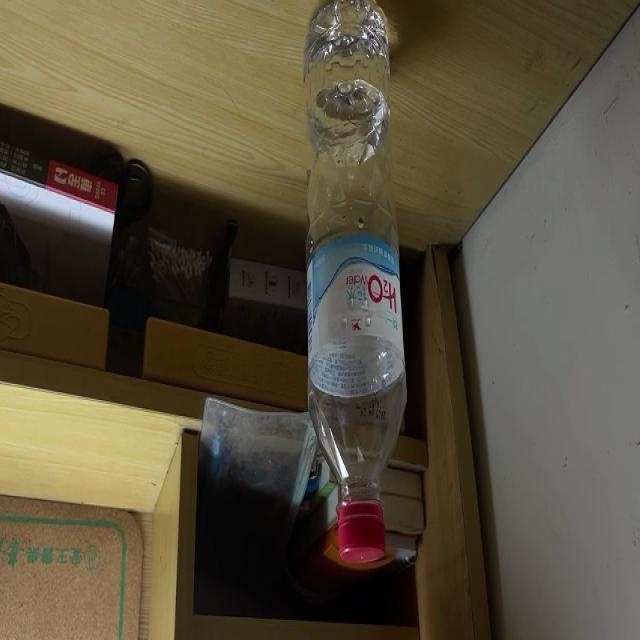Water: (305, 0, 404, 564)
